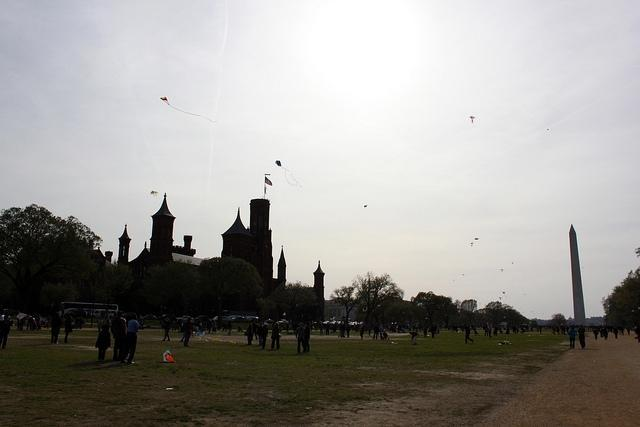bus: (62, 302, 119, 320)
car: (204, 314, 248, 332), (248, 317, 259, 323)
